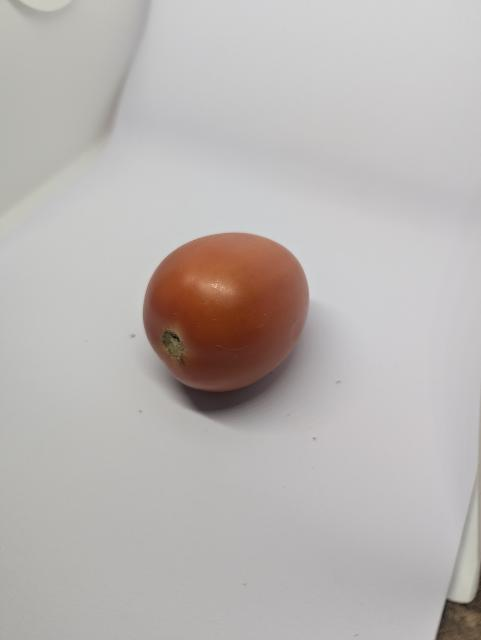red: (140, 228, 314, 400)
